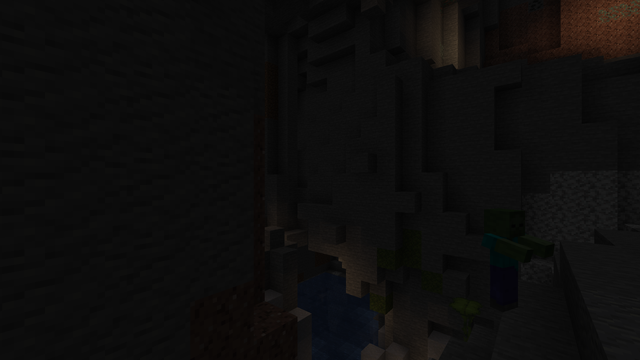zombies: (484, 210, 522, 317)
